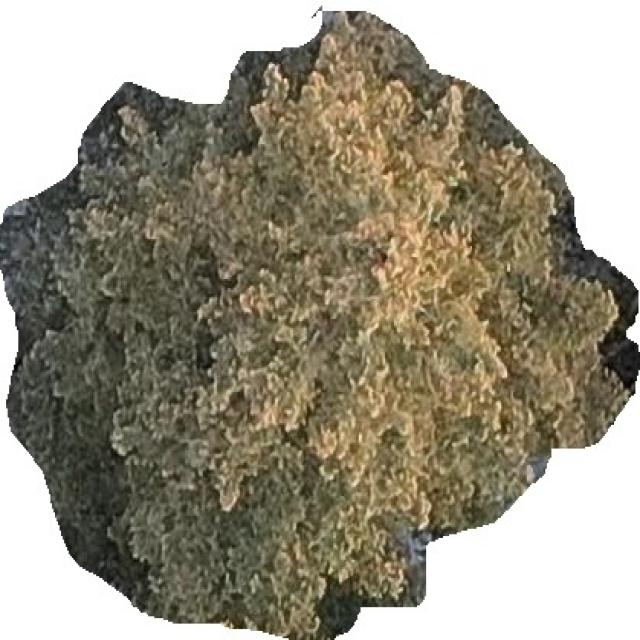spruce: (0, 11, 638, 638)
